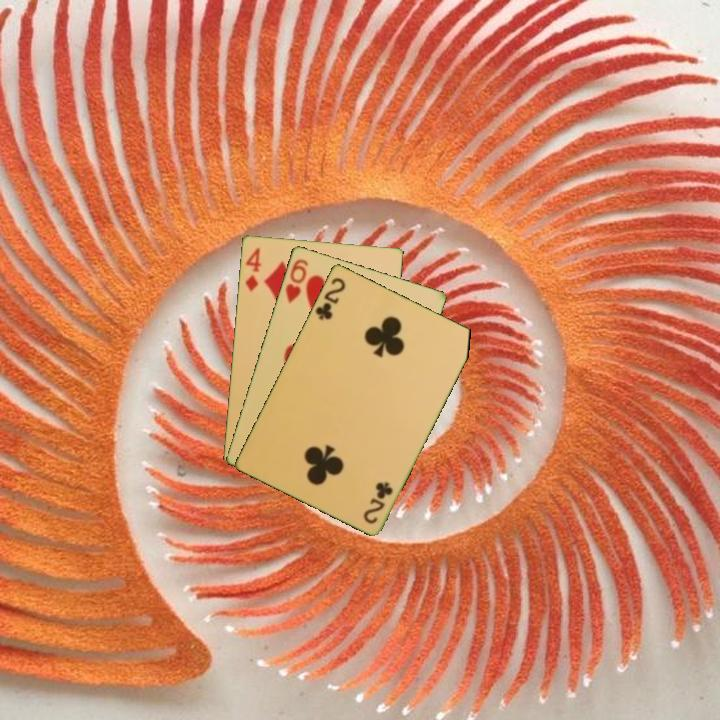2c: (359, 478, 396, 526), (312, 274, 348, 323)
4d: (242, 244, 264, 294)
6h: (281, 255, 311, 306)
